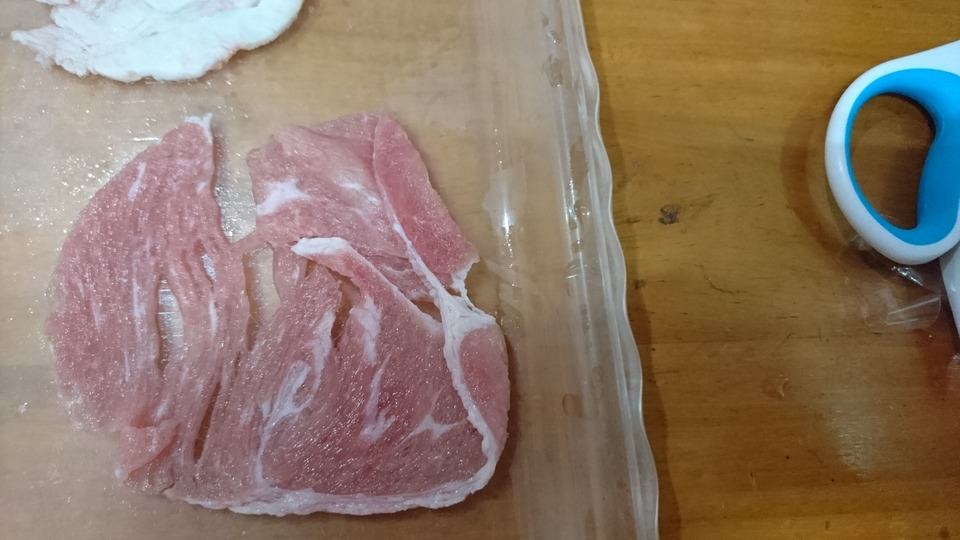restructured meat: (45, 117, 523, 511), (37, 1, 319, 84)
